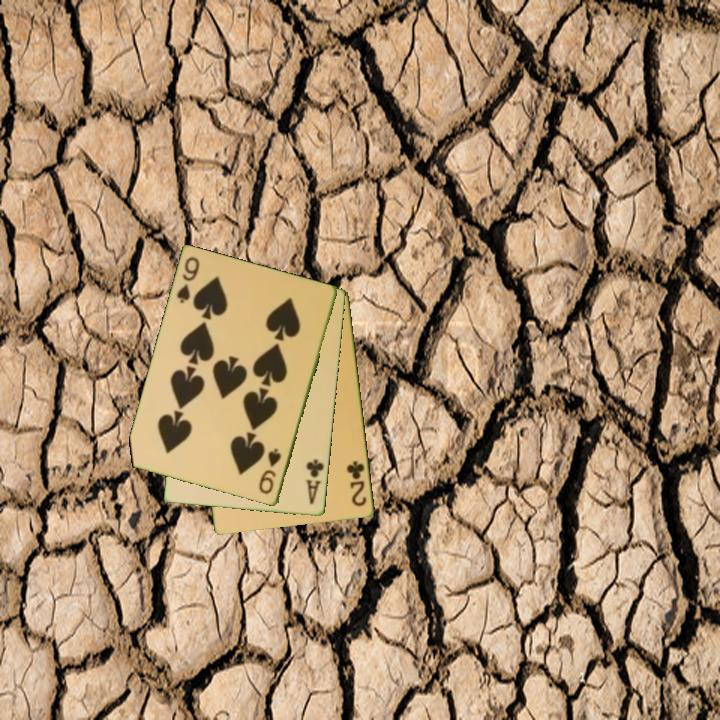2c: (343, 458, 369, 510)
9s: (173, 253, 203, 307), (255, 445, 284, 497)
Ac: (302, 456, 327, 508)
